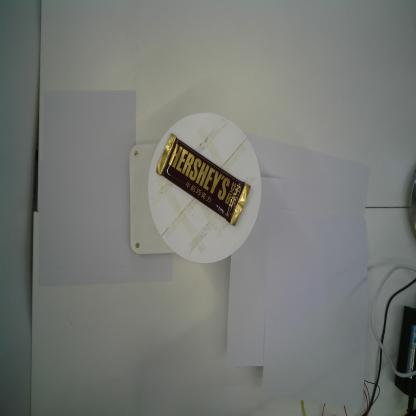Chocolate: (155, 130, 253, 232)
